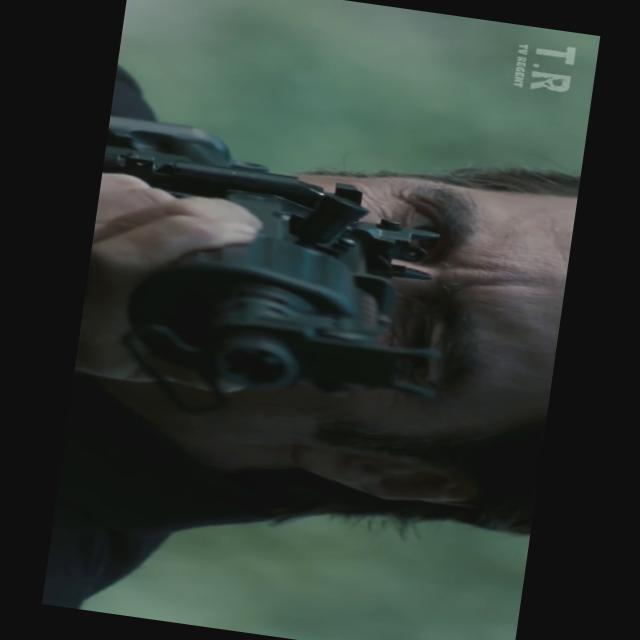long weapon: (42, 99, 482, 436)
